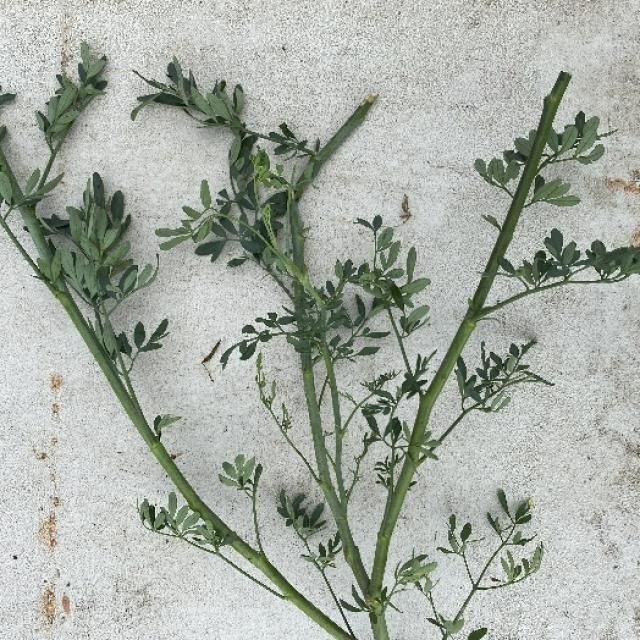organik: (0, 69, 621, 640)
